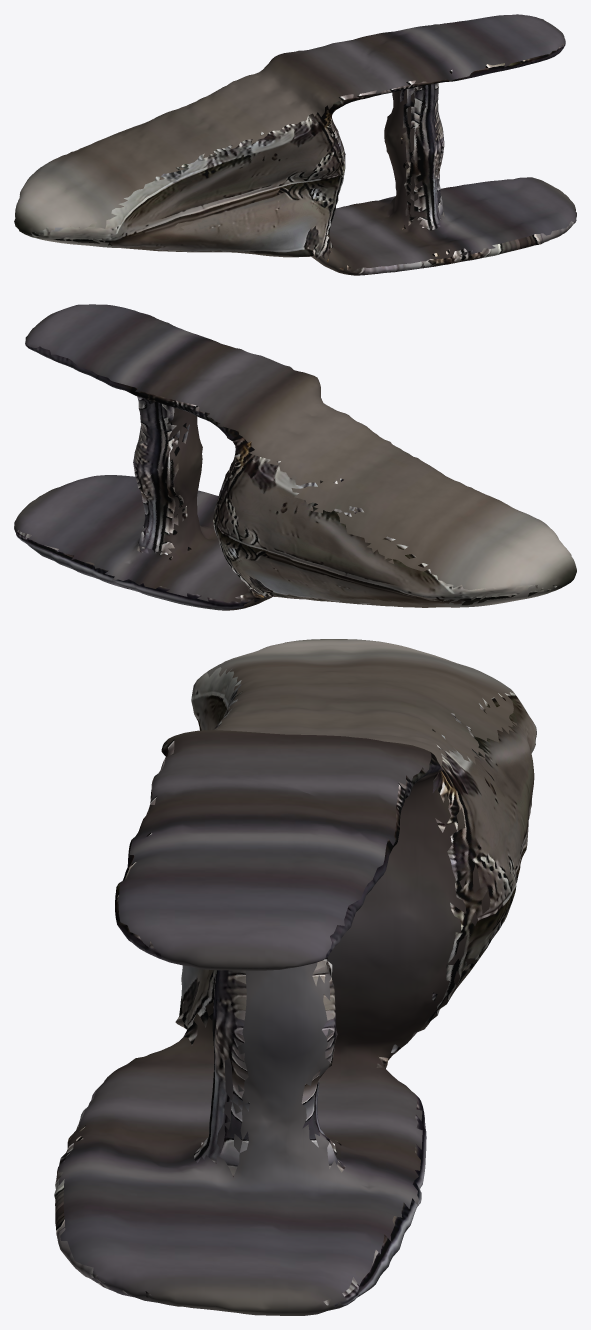
Rendered from kfl-2180.glb.
3 views of the same model, one above another, from view 1: azimuth 30°, elevation 25°; view 2: azimuth 150°, elevation 25°; view 3: azimuth 270°, elevation 25° (orthographic). The views are drawn at different scales.
Visible parts, largest first — view 1: kfl-2180; view 2: kfl-2180; view 3: kfl-2180.
Part boxes in pixels (x1,y1,x2,y2): kfl-2180: (14, 14, 576, 275); kfl-2180: (14, 304, 576, 610); kfl-2180: (54, 639, 536, 1315).
Size of the model in its own units: 0.9908 by 0.3495 by 0.3971.
4 materials, 4 textured.
